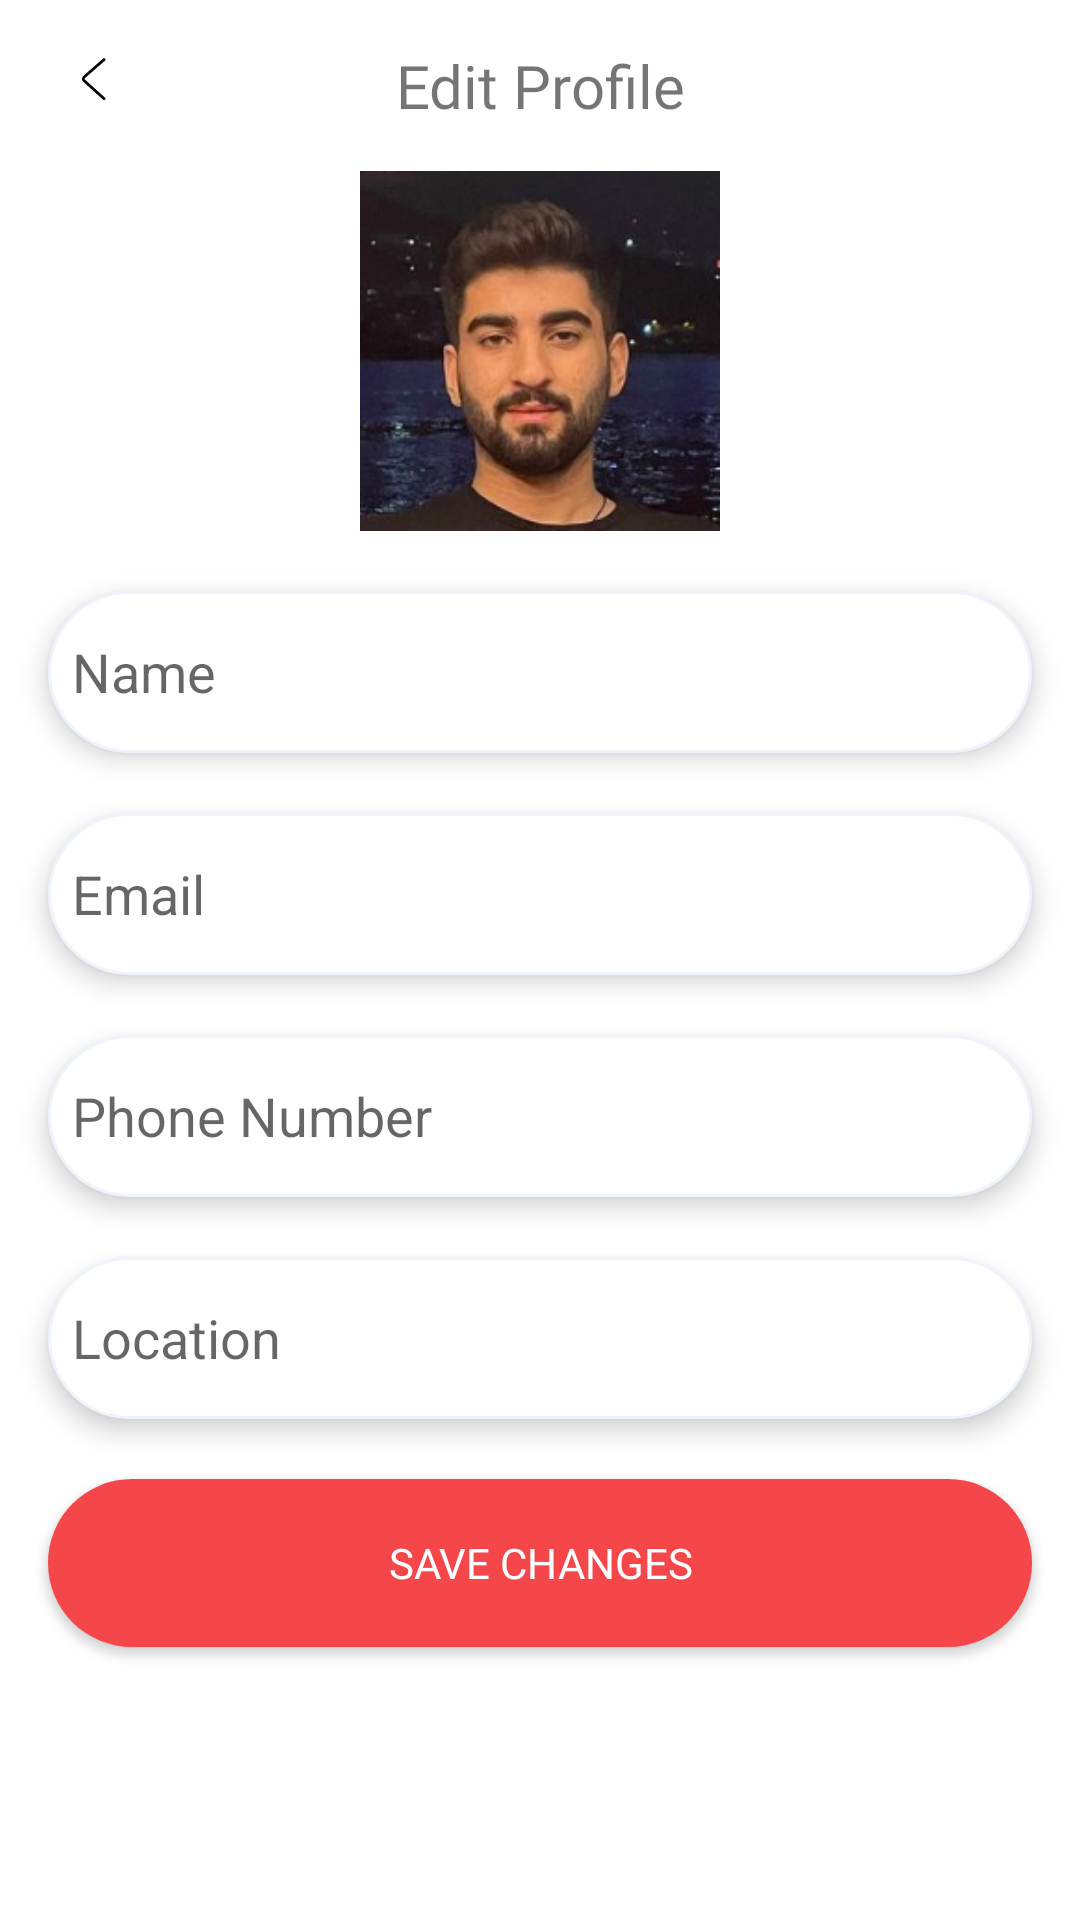

Icon bounding boxes for this 1080w x 1920h phone screenshot, format detection(x1, y1, x2, y2):
back: detection(82, 58, 106, 100)
profilephoto: detection(360, 171, 720, 531)
